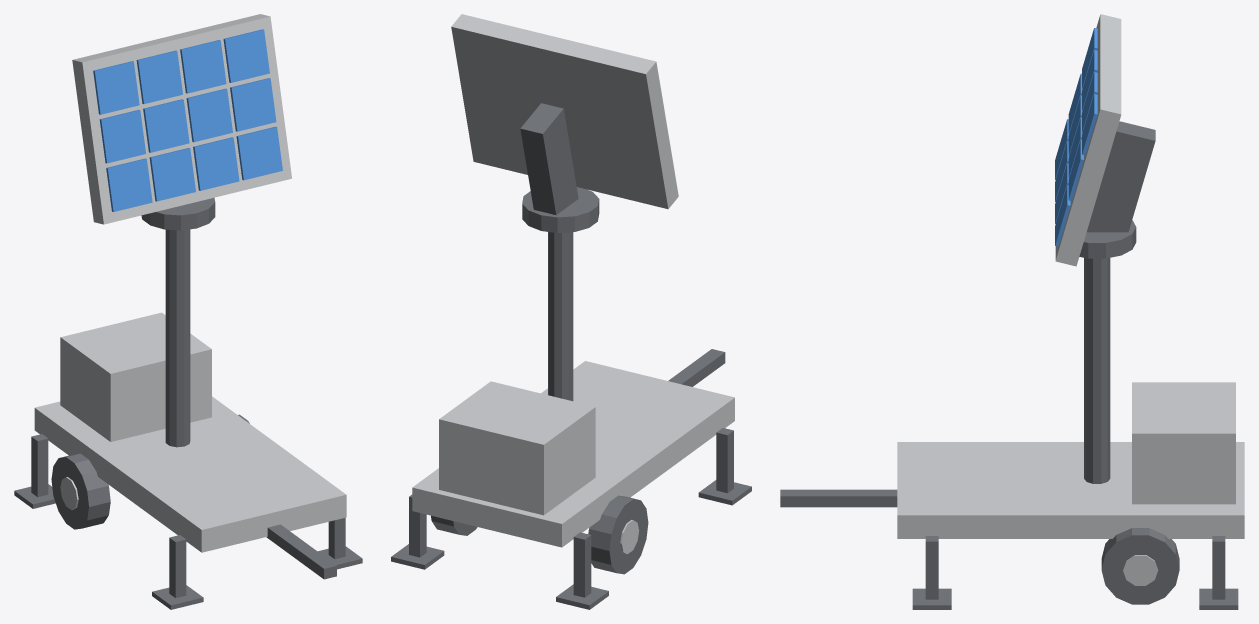
The model's file is Radar_Panel_01.fbx.
The picture shows the model from 3 angles, left to right: view 1: azimuth 30°, elevation 25°; view 2: azimuth 150°, elevation 25°; view 3: azimuth 270°, elevation 25°; orthographic projection. The views are drawn at different scales.
Parts seen in each view (by area): view 1: Radar_Panel_01_Structure, Radar_Panel_01_Head_Accent, Radar_Panel_01_Trim, Radar_Panel_01_Head_Structure, Radar_Panel_01_Head_Trim; view 2: Radar_Panel_01_Structure, Radar_Panel_01_Head_Structure, Radar_Panel_01_Trim, Radar_Panel_01_Head_Trim; view 3: Radar_Panel_01_Structure, Radar_Panel_01_Trim, Radar_Panel_01_Head_Structure, Radar_Panel_01_Head_Trim, Radar_Panel_01_Head_Accent.
Boxes of the visible parts, box(x1,y1,x2,y2) form: Radar_Panel_01_Structure: box(34, 312, 346, 552); Radar_Panel_01_Head_Accent: box(93, 29, 282, 211); Radar_Panel_01_Trim: box(14, 229, 362, 609); Radar_Panel_01_Head_Structure: box(72, 14, 291, 224); Radar_Panel_01_Head_Trim: box(141, 197, 215, 230); Radar_Panel_01_Structure: box(412, 361, 734, 554); Radar_Panel_01_Head_Structure: box(451, 14, 678, 209); Radar_Panel_01_Trim: box(391, 232, 751, 609); Radar_Panel_01_Head_Trim: box(520, 103, 599, 232); Radar_Panel_01_Structure: box(897, 382, 1244, 585); Radar_Panel_01_Trim: box(780, 258, 1238, 609); Radar_Panel_01_Head_Structure: box(1055, 14, 1121, 266); Radar_Panel_01_Head_Trim: box(1079, 121, 1155, 258); Radar_Panel_01_Head_Accent: box(1055, 28, 1097, 246).
Size of the model in its own units: 2.65 by 6.35 by 5.35.
